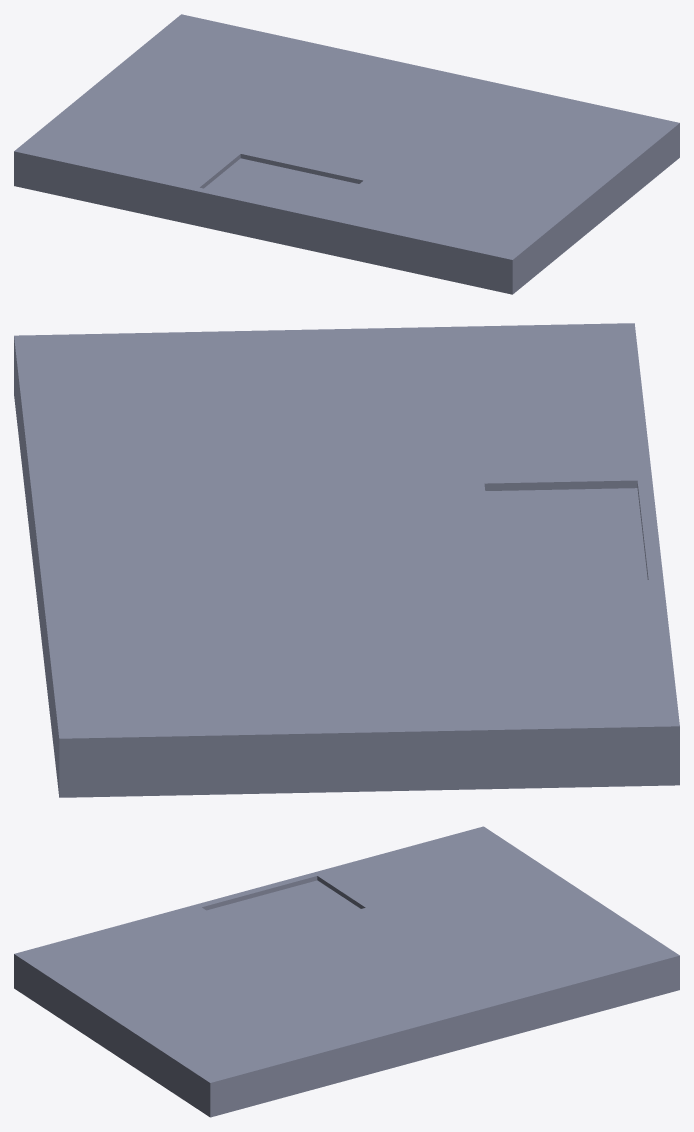
Rendered from laptopSilver.glb.
3 renders of one model, top to bottom at view 1: azimuth 30°, elevation 25°; view 2: azimuth 150°, elevation 25°; view 3: azimuth 270°, elevation 25°, orthographic. The views are drawn at different scales.
Parts seen in each view (by area): view 1: Cube; view 2: Cube; view 3: Cube.
Boxes of the visible parts, box(x1,y1,x2,y2) form: Cube: box(14, 14, 679, 294); Cube: box(14, 323, 679, 797); Cube: box(14, 826, 679, 1117).
Size of the model in its own units: 1.22 by 0.0768 by 1.34.
